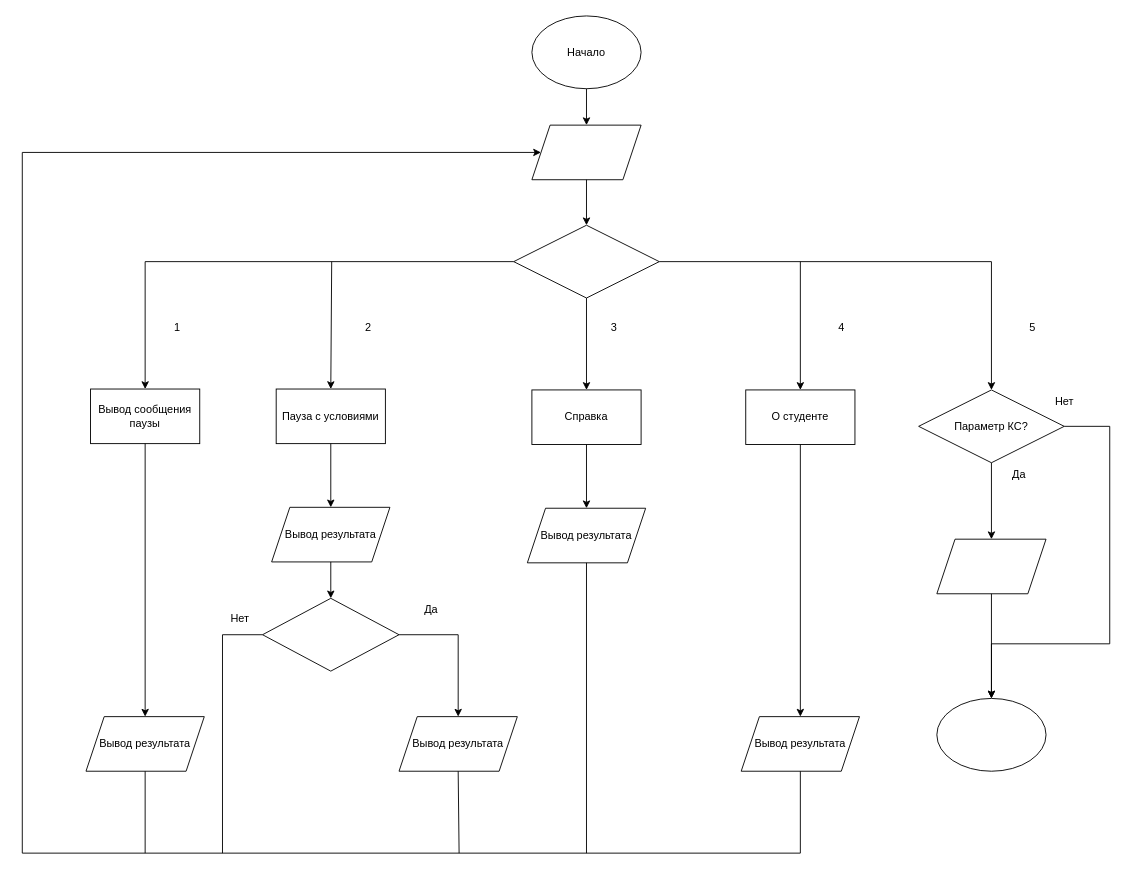
This 1133x876 diagram has some shape labels left out. Each missing label, with the box of its shape:
Выберите пункт меню: (513, 224, 659, 298)
Вывод меню: (531, 124, 641, 180)
Вывод файла справки: (936, 538, 1046, 594)
Конец: (936, 698, 1046, 771)
Состояние = 1?: (262, 597, 399, 671)
